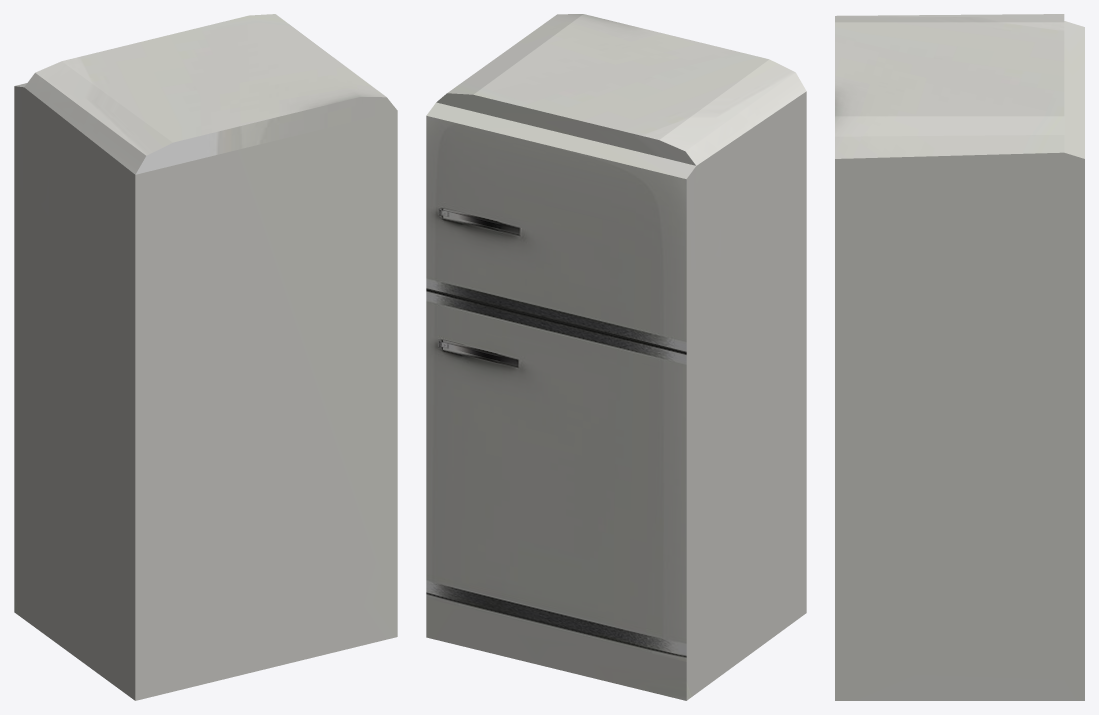
The model's file is nevera (2).fbx.
The picture shows the model from 3 angles, left to right: view 1: azimuth 30°, elevation 25°; view 2: azimuth 150°, elevation 25°; view 3: azimuth 270°, elevation 25°; orthographic projection. The views are drawn at different scales.
Visible parts, largest first — view 1: nevera; view 2: nevera; view 3: nevera.
Part boxes in pixels (bbox=[...]): nevera: bbox=[14, 14, 397, 700]; nevera: bbox=[426, 14, 806, 700]; nevera: bbox=[835, 14, 1084, 700].
Bounding box in the file's own units: 1 × 2 × 0.8.
Materials: 1 (1 with a texture image).
